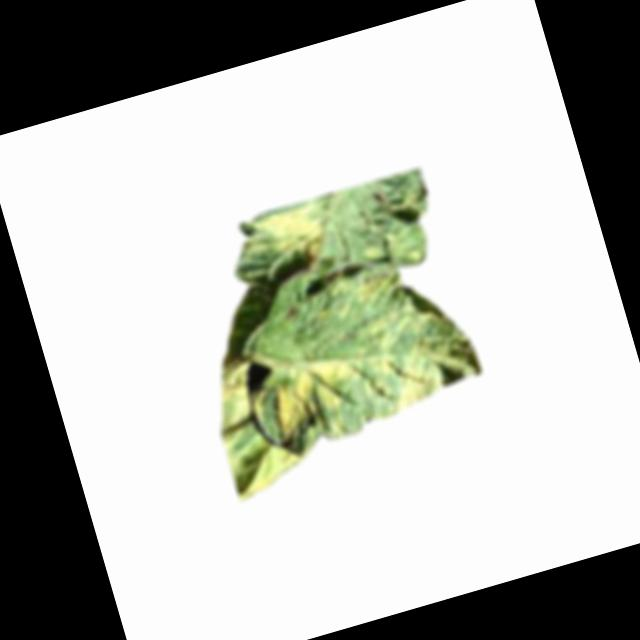Leaf_Mold: (262, 349, 369, 455), (227, 198, 342, 290), (374, 340, 451, 415), (209, 350, 259, 408), (352, 265, 400, 307)
